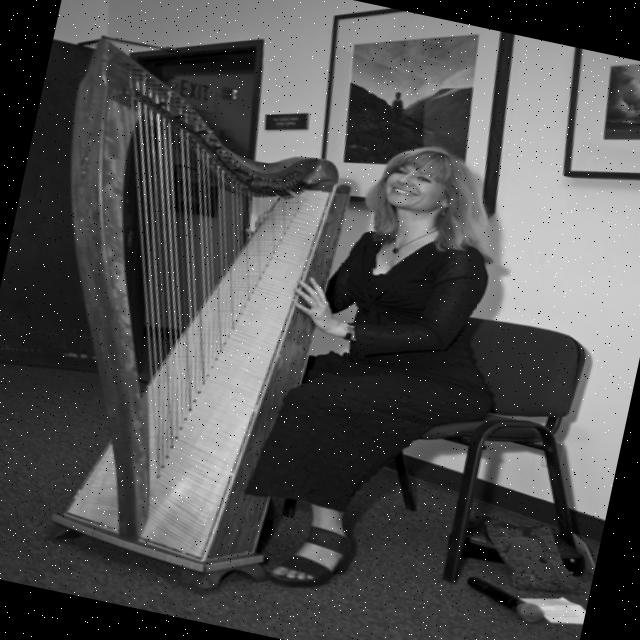harp: (0, 28, 390, 607)
